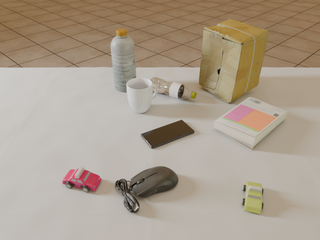book: (214, 97, 287, 150)
bottle: (111, 29, 136, 92), (150, 77, 196, 99)
box: (199, 19, 269, 103)
cup: (126, 78, 158, 113)
mouse: (115, 166, 178, 213)
phone: (141, 120, 194, 148)
toy_car: (62, 167, 101, 192), (242, 181, 263, 214)
